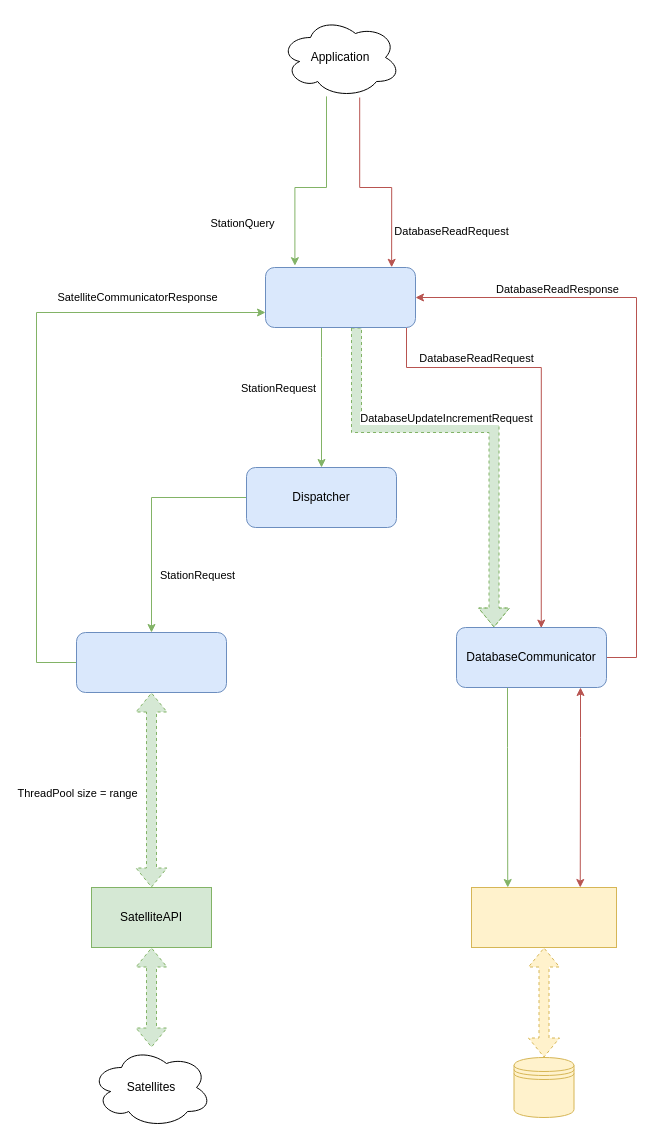
The diagram is 662 pixels wide and 1145 high, and some of its shapes have lost their labels. The shapes that lost their labels are listed below. From the top down, each one's centre as x and y in pixels, then its label:
At pixel 340 297: "Station".
At pixel 151 662: "SatelliteCommunicator".
At pixel 543 917: "SqliteDatabaseController".
